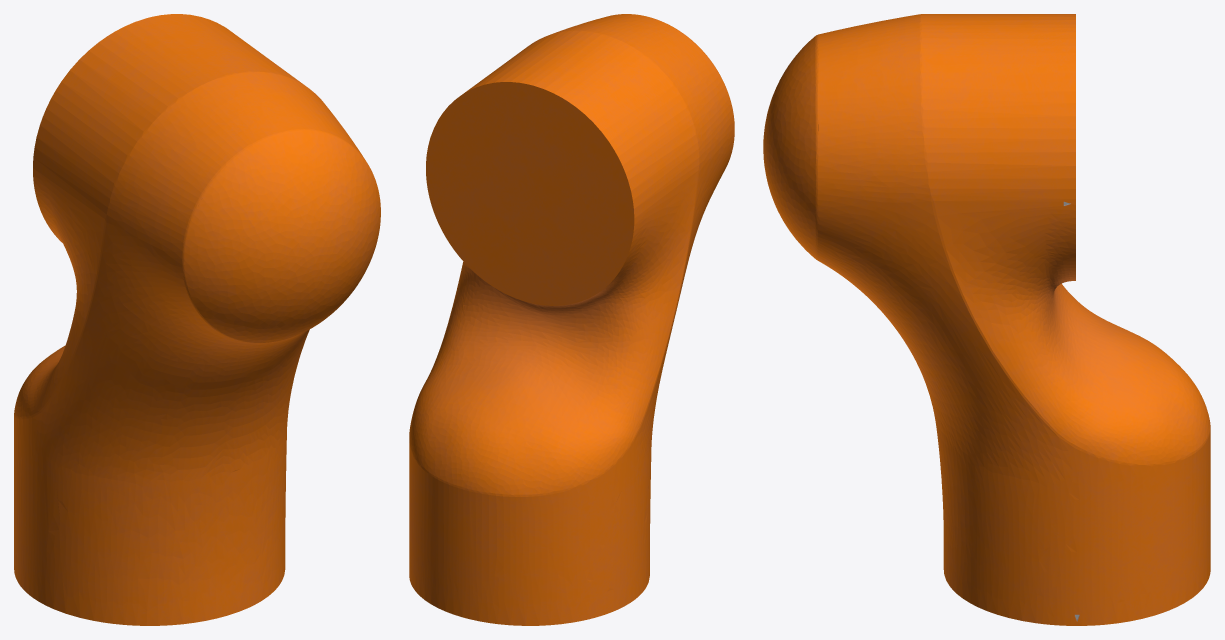
3 views of the same model, side by side, from view 1: azimuth 30°, elevation 25°; view 2: azimuth 150°, elevation 25°; view 3: azimuth 270°, elevation 25° (orthographic). The views are drawn at different scales.
Visible parts, largest first — view 1: link1; view 2: link1; view 3: link1.
Part boxes in pixels (left/top/right/bottom): link1: left=14, top=14, right=380, bottom=625; link1: left=409, top=14, right=734, bottom=625; link1: left=763, top=14, right=1210, bottom=625.
Size of the model in its own units: 11 by 18.44 by 24.7.
Materials: 1 (1 with a texture image).
